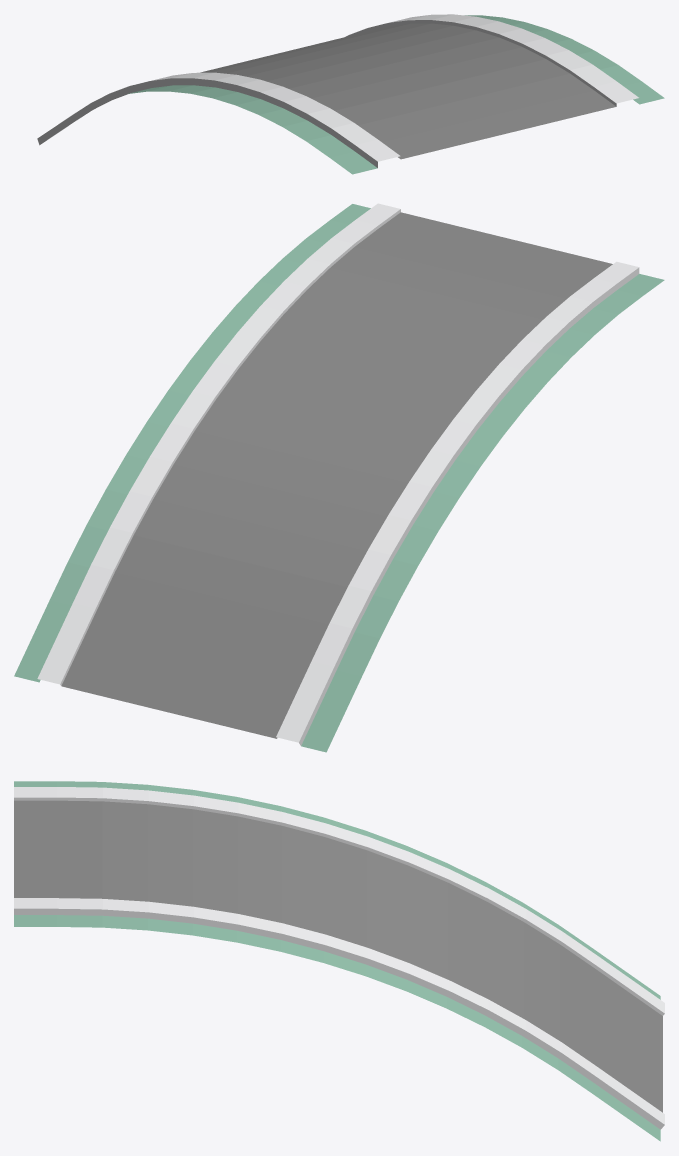
File: roadSlopeDownStart.glb
3 renders of one model, top to bottom at view 1: azimuth 30°, elevation 25°; view 2: azimuth 150°, elevation 25°; view 3: azimuth 270°, elevation 25°, orthographic. The views are drawn at different scales.
Visible parts, largest first — view 1: roadSlopedLong; view 2: roadSlopedLong; view 3: roadSlopedLong.
Boxes of the visible parts, box(x1,y1,x2,y2) form: roadSlopedLong: box(37, 14, 664, 174); roadSlopedLong: box(14, 203, 664, 752); roadSlopedLong: box(14, 781, 664, 1141).
Size of the model in its own units: 1 by 0.7074 by 1.89.
